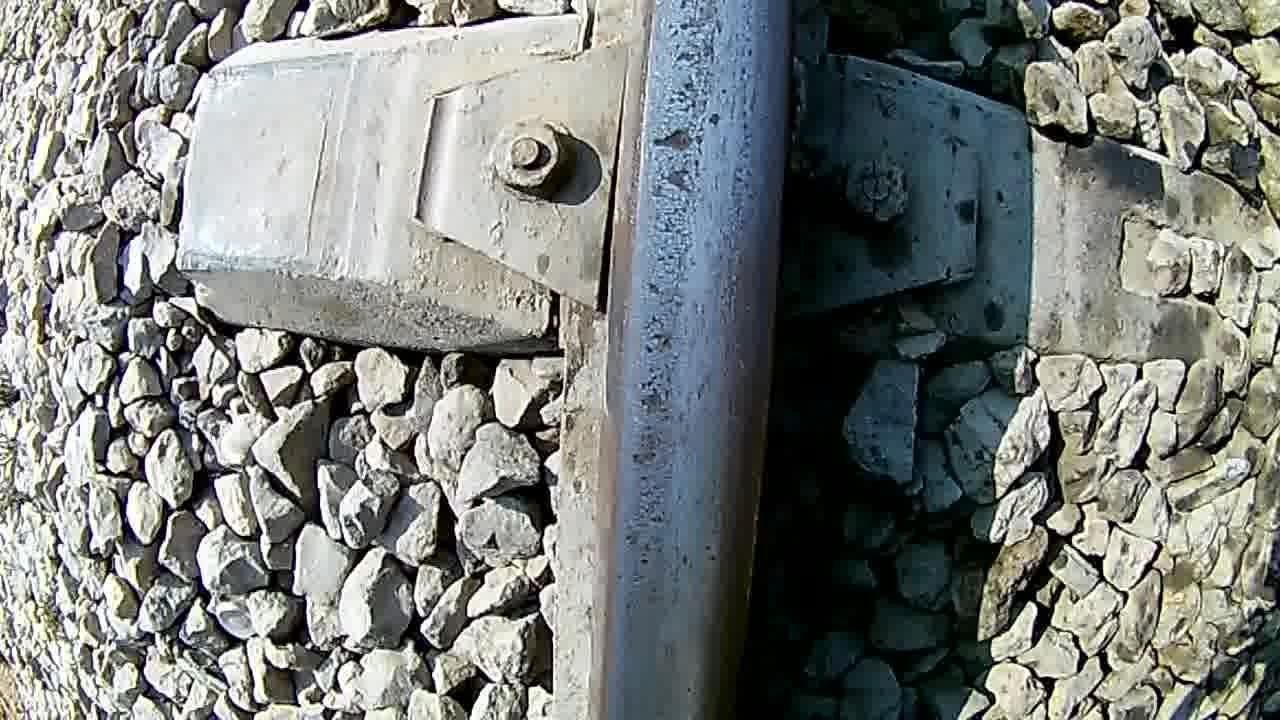crack: (636, 3, 781, 720)
